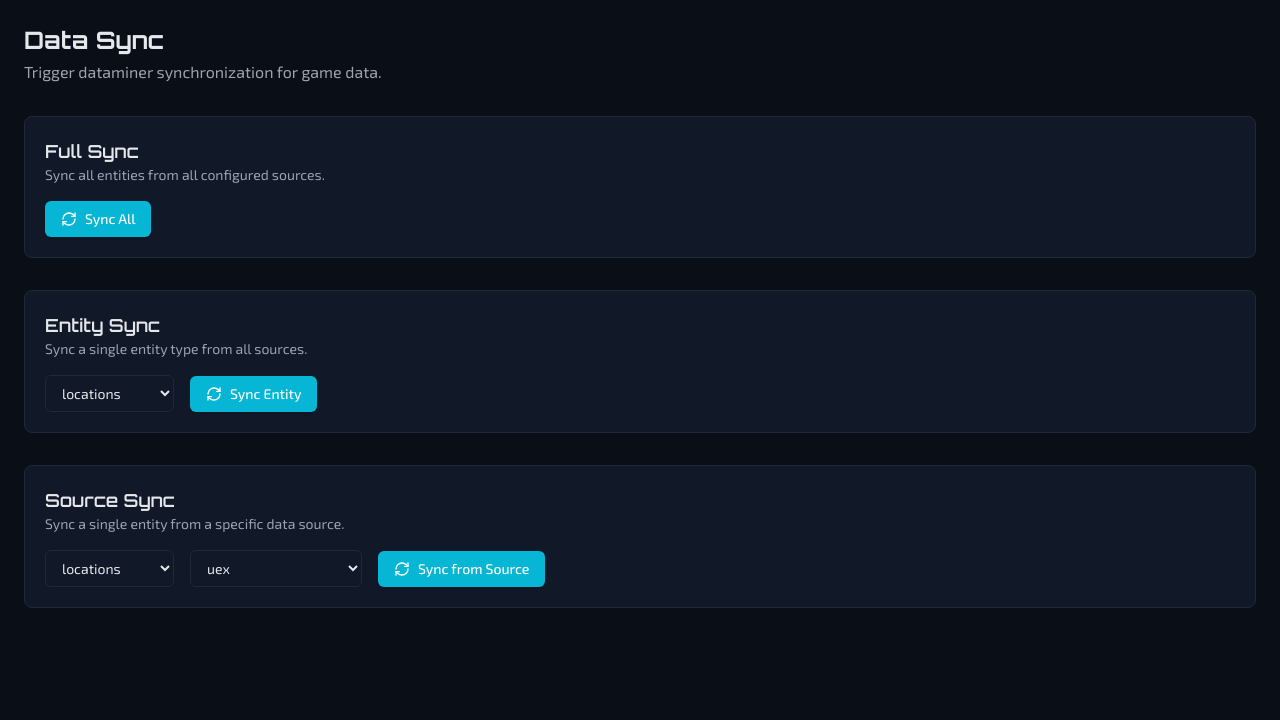
it: SyncPage › full sync shows error on failure
Step 1. Click the button "Sync All" → click(98, 219), box [45,201,152,237]
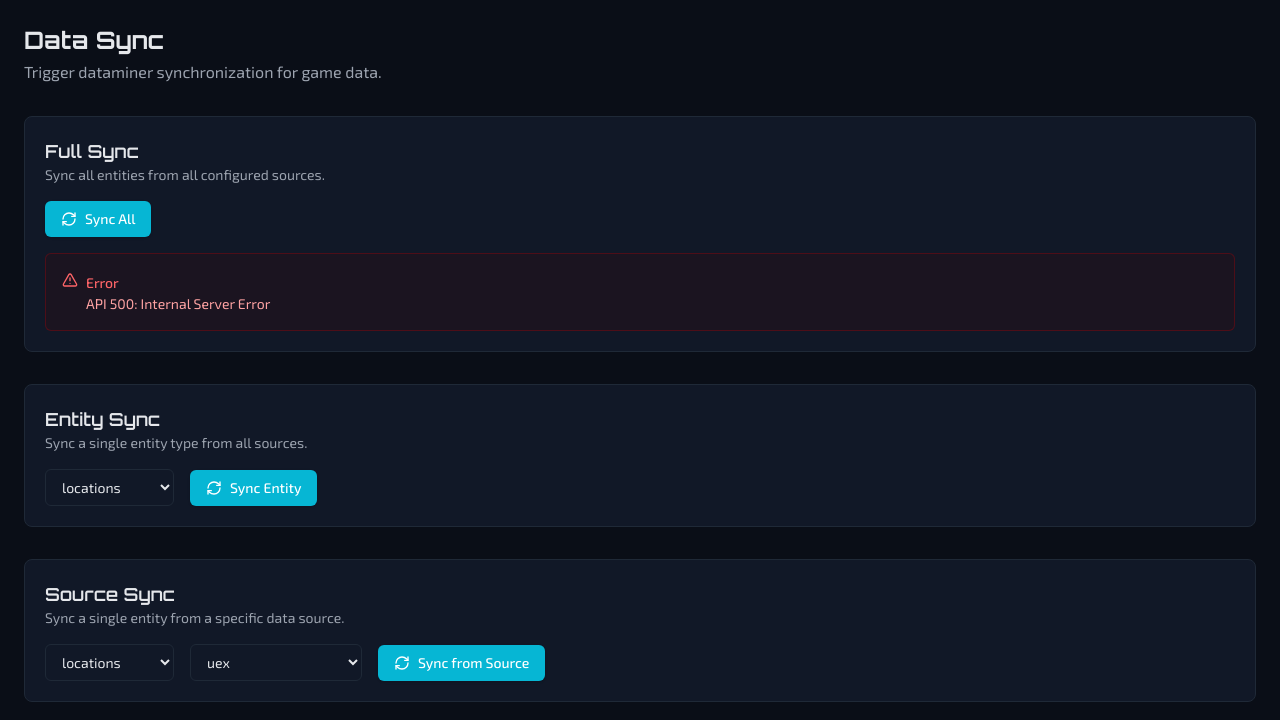
Check: the text "API 500: Internal Server Error" is shown, box [86,294,270,314]
